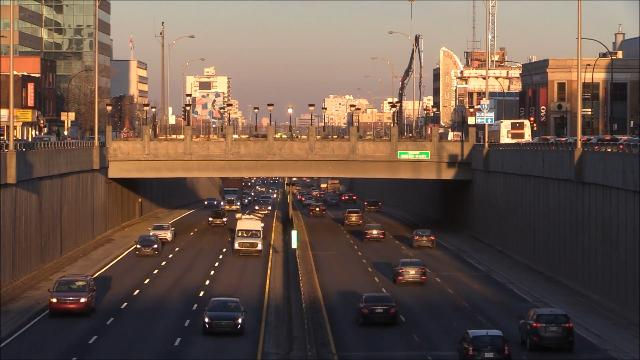bus: (485, 118, 533, 146)
car: (520, 309, 578, 352), (457, 326, 514, 360), (50, 275, 98, 315), (204, 297, 249, 334), (358, 294, 401, 326), (390, 261, 430, 286), (136, 235, 165, 257), (150, 222, 177, 242), (593, 136, 625, 152), (411, 228, 435, 249), (363, 224, 387, 241), (344, 208, 365, 226), (208, 209, 230, 226), (569, 136, 592, 152), (254, 199, 274, 216), (309, 203, 327, 218), (364, 199, 382, 212), (301, 195, 316, 208), (323, 195, 339, 207), (341, 193, 358, 204), (204, 197, 220, 208), (257, 195, 273, 205), (239, 195, 249, 204), (268, 187, 278, 196), (255, 186, 266, 193)
truck: (221, 178, 243, 212)
van: (235, 218, 265, 256)
